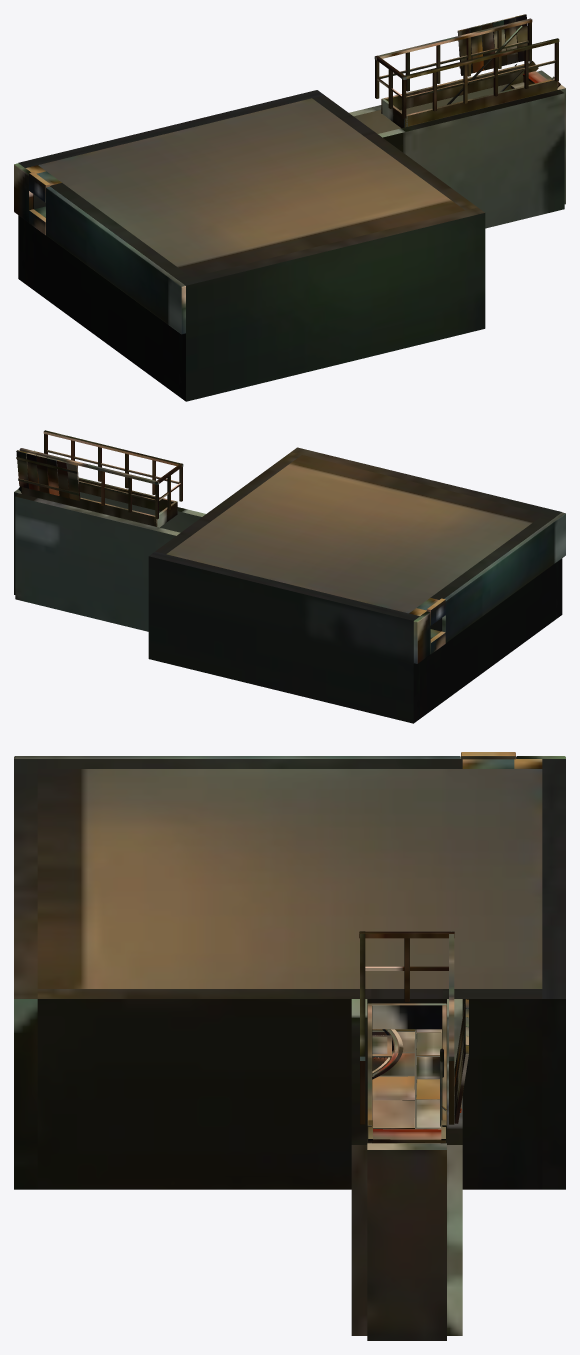
Rendered from tantrik.glb.
3 views of the same model, one above another, from view 1: azimuth 30°, elevation 25°; view 2: azimuth 150°, elevation 25°; view 3: azimuth 270°, elevation 25° (orthographic). The views are drawn at different scales.
Visible parts, largest first — view 1: CHUNK_tantrik; view 2: CHUNK_tantrik; view 3: CHUNK_tantrik.
Boxes of the visible parts, box(x1,y1,x2,y2) form: CHUNK_tantrik: box(14, 14, 565, 401); CHUNK_tantrik: box(14, 430, 565, 723); CHUNK_tantrik: box(14, 752, 565, 1340).
Bounding box in the file's own units: 11.76 × 3.94 × 6.95.
1 material, 1 textured.
